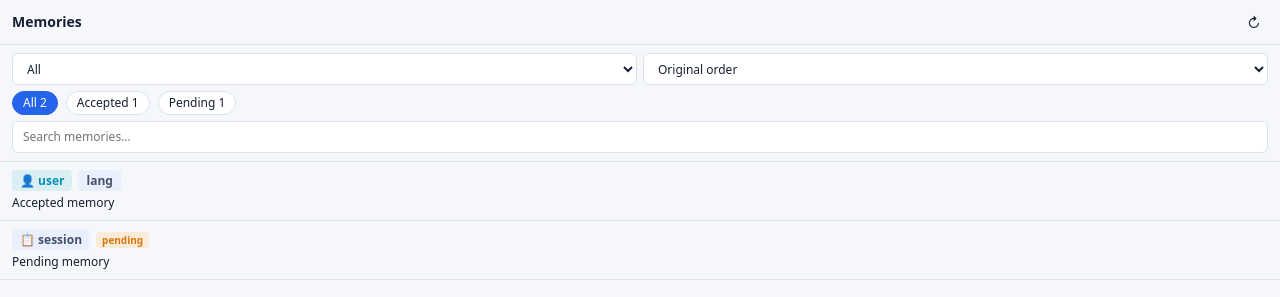
Test: MemoryBrowser › filters visible memories by pending status
What coordinates should you click on to do the following:
click the button with test id "memory-status-filter-pending"
I would click on:
 (197, 103)
Its box is [158, 91, 236, 115].
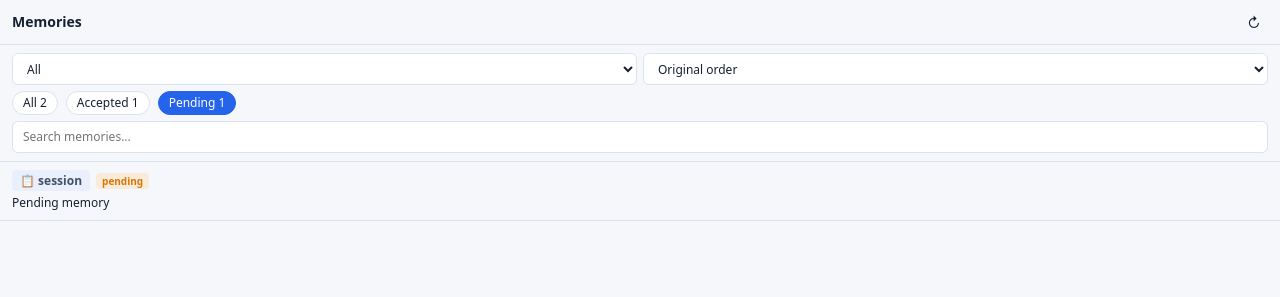
expect the text "Pending memory" is shown: met, box [12, 194, 109, 211]
expect the text "Accepted memory" is gone: met
